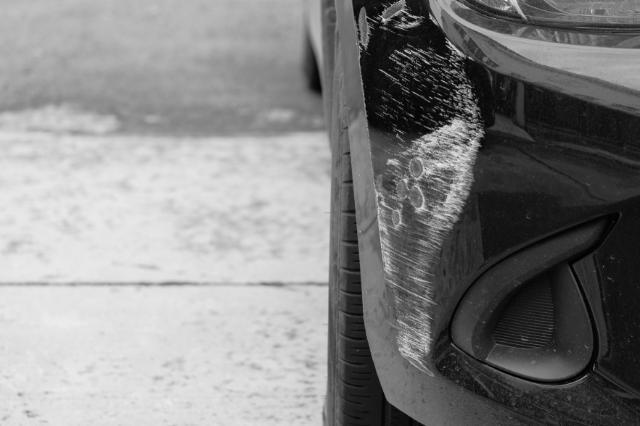Bumper: (347, 0, 640, 426)
